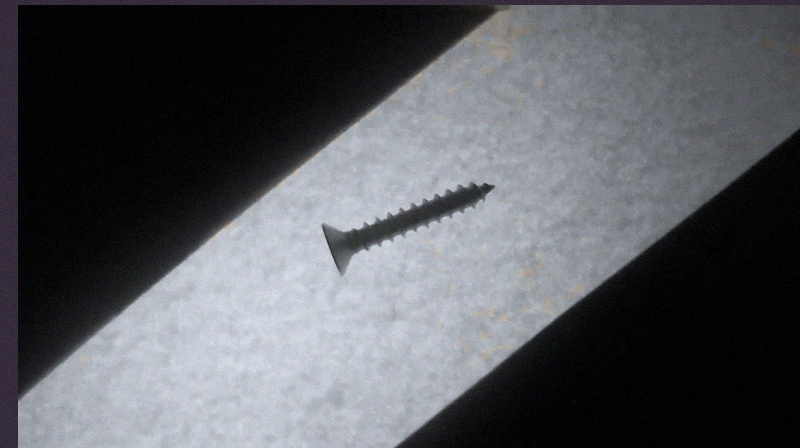S001: (318, 178, 501, 278)
